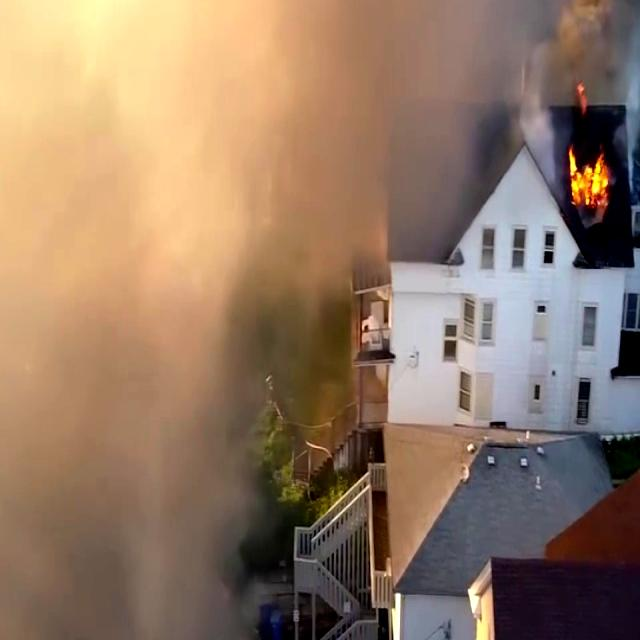fire: (568, 116, 616, 235)
smoke: (0, 0, 442, 187)
